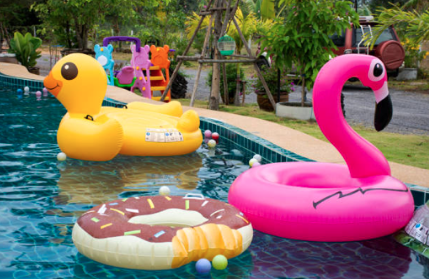Flamingo: (226, 53, 417, 243)
